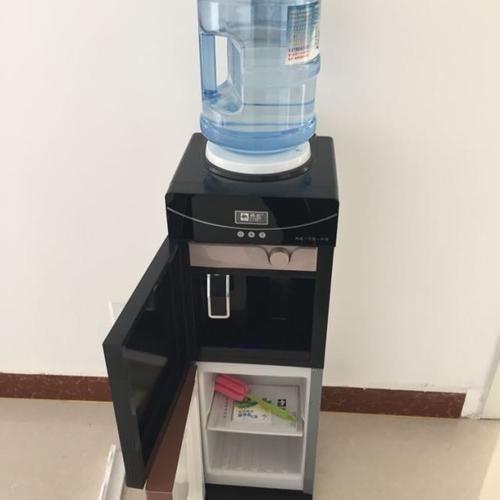Dispenser: (162, 0, 341, 361)
